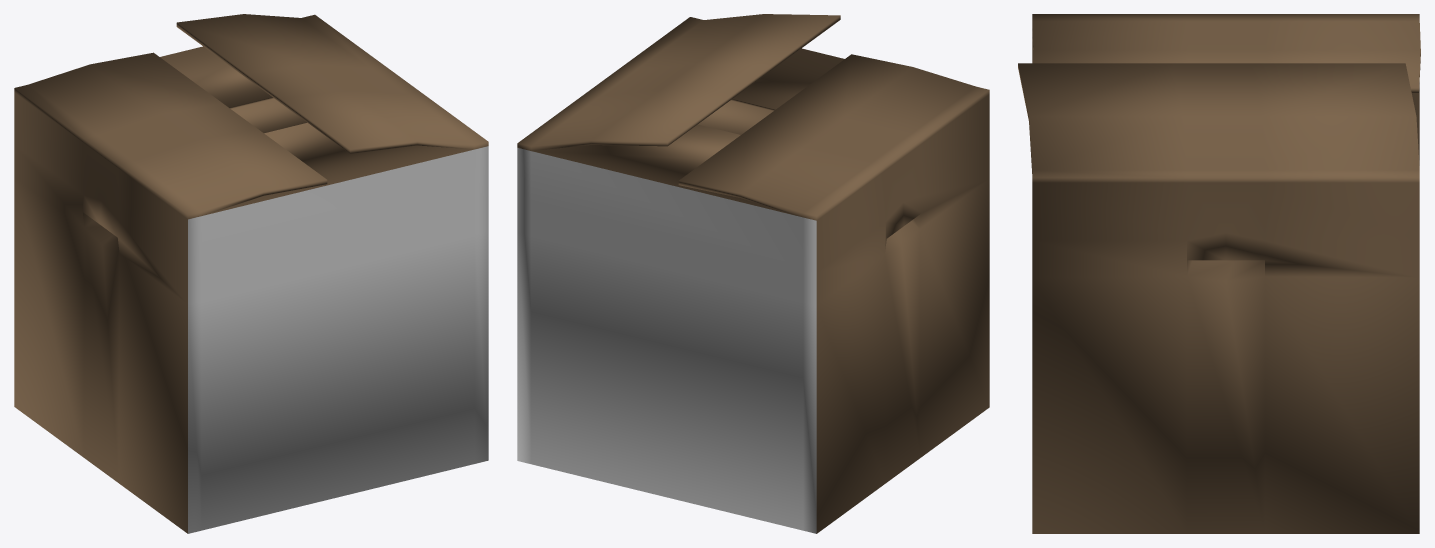
The model's file is box-open-lid.fbx.
The picture shows the model from 3 angles, left to right: view 1: azimuth 30°, elevation 25°; view 2: azimuth 150°, elevation 25°; view 3: azimuth 270°, elevation 25°; orthographic projection. The views are drawn at different scales.
Visible parts, largest first — view 1: Cube; view 2: Cube; view 3: Cube.
Part boxes in pixels (box(x1,y1,x2,y2)): Cube: box(14, 14, 488, 533); Cube: box(517, 14, 989, 533); Cube: box(1018, 14, 1420, 533).
Size of the model in its own units: 202 by 223 by 208.
